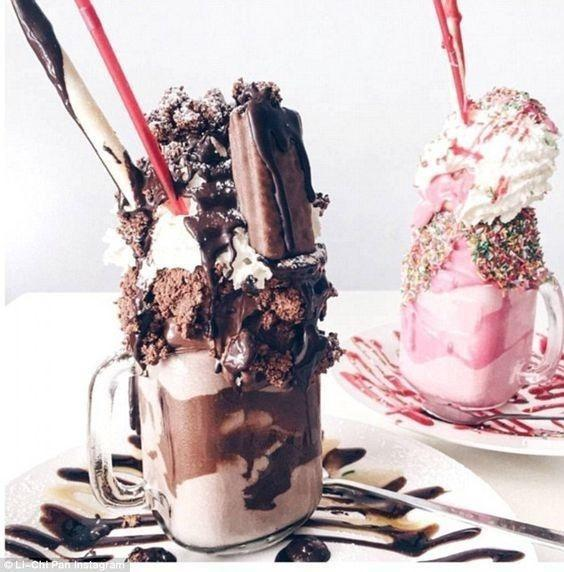glass-mug: (80, 285, 327, 549), (396, 215, 563, 433)
